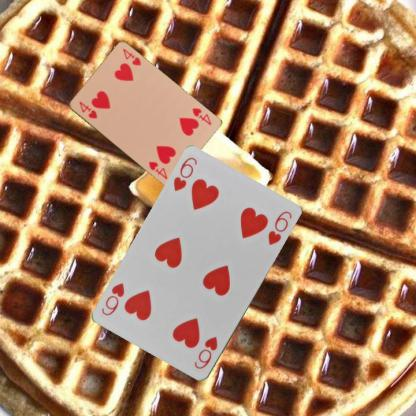4h: (190, 105, 212, 127), (76, 99, 98, 120)
6h: (170, 154, 199, 193), (191, 334, 219, 371)
